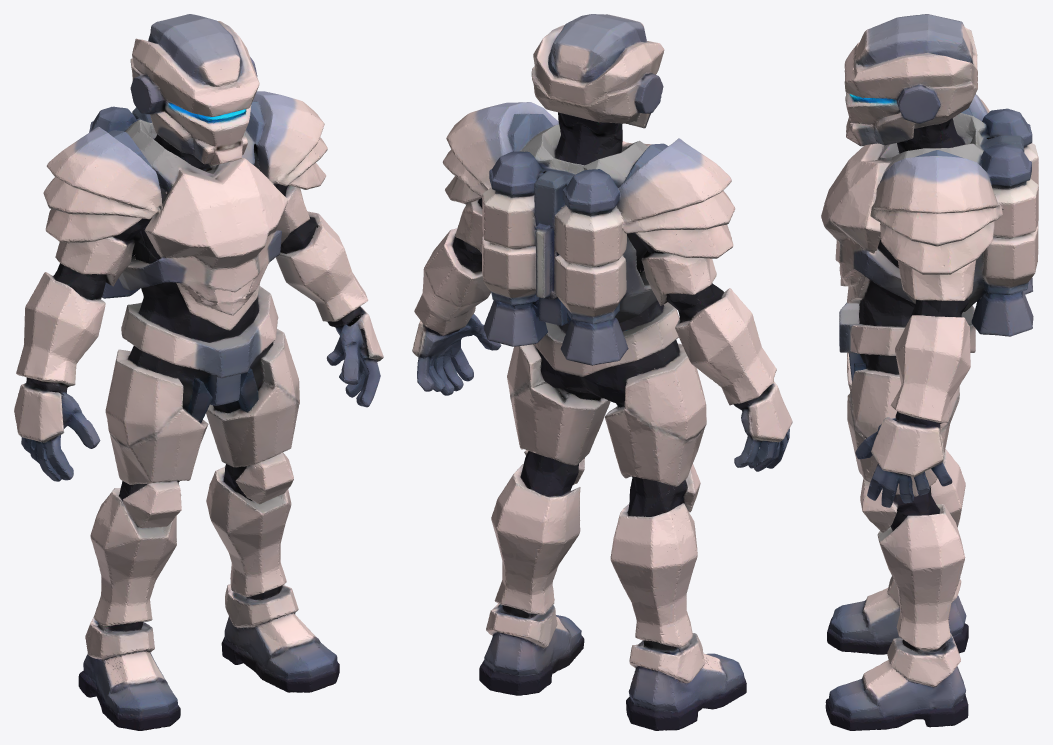
File: vanguard-r2-s302.glb
The picture shows the model from 3 angles, left to right: view 1: azimuth 30°, elevation 25°; view 2: azimuth 150°, elevation 25°; view 3: azimuth 270°, elevation 25°; orthographic projection. The views are drawn at different scales.
Parts seen in each view (by area): view 1: geometry_0; view 2: geometry_0; view 3: geometry_0.
Part boxes in pixels (left/top/right/bottom): geometry_0: left=14, top=14, right=383, bottom=730; geometry_0: left=412, top=14, right=792, bottom=730; geometry_0: left=821, top=14, right=1038, bottom=730.
Size of the model in its own units: 0.2867 by 0.501 by 0.1505.
Materials: 1 (1 with a texture image).
